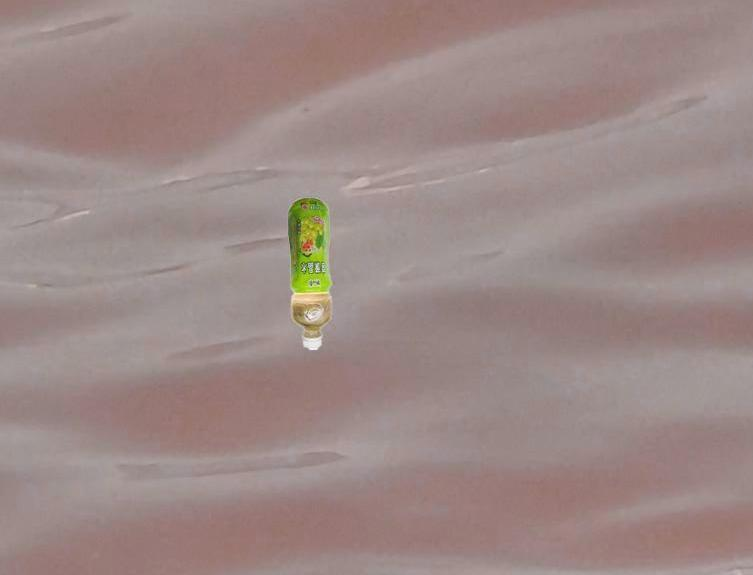Plastic: (284, 193, 332, 356)
